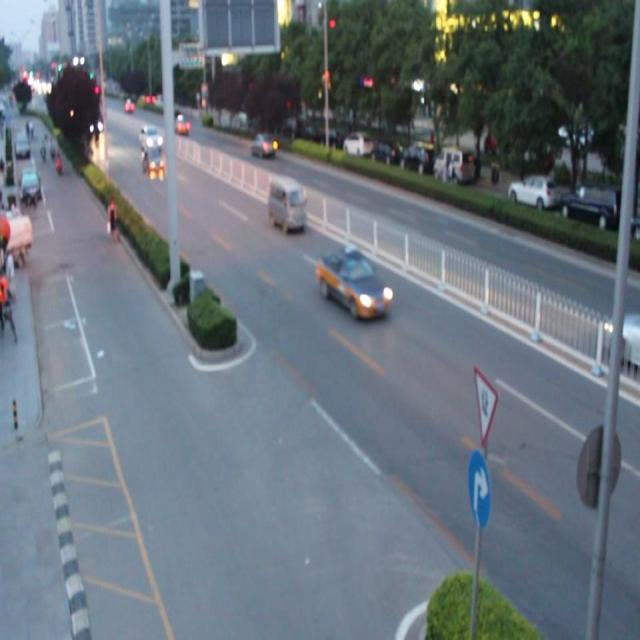car: (315, 249, 388, 319), (599, 304, 640, 374), (250, 132, 276, 158), (142, 147, 164, 172)
truck: (267, 177, 306, 234)
